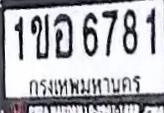1: (145, 7, 156, 54), (13, 16, 23, 60)
6: (82, 12, 98, 56)
7: (102, 10, 118, 56)
8: (122, 8, 137, 54)
A02: (30, 13, 49, 58)
A43: (53, 13, 73, 58)
BKK: (24, 71, 142, 96)
